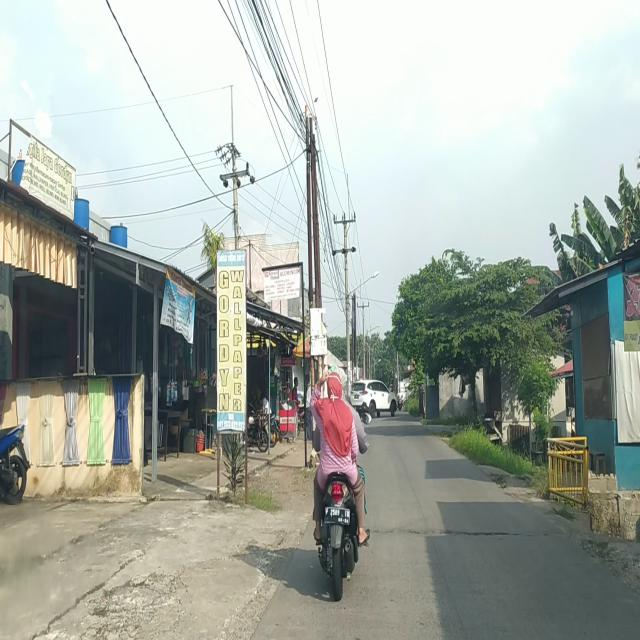Sewer Cover: (366, 523, 561, 540)
